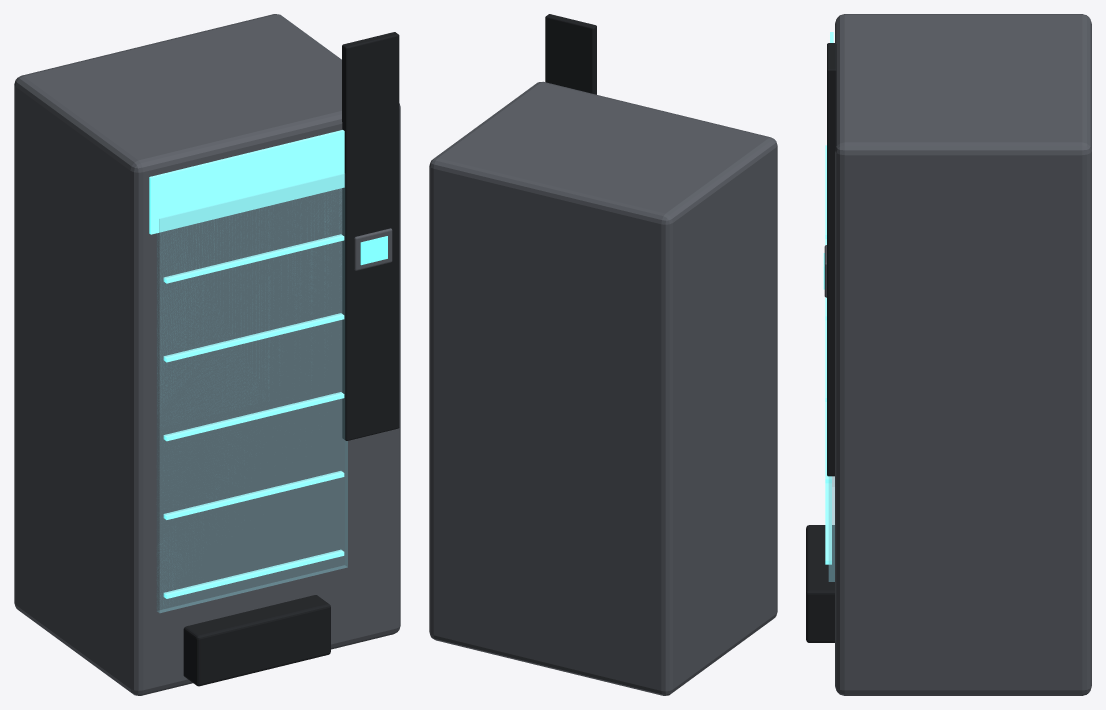
File: vending_machine_drink_cooler.glb
The picture shows the model from 3 angles, left to right: view 1: azimuth 30°, elevation 25°; view 2: azimuth 150°, elevation 25°; view 3: azimuth 270°, elevation 25°; orthographic projection. The views are drawn at different scales.
Visible parts, largest first — view 1: GD_vending_machine_drink_cooler__m0, GD_vending_machine_drink_cooler__m1, GD_vending_machine_drink_cooler__m8, GD_vending_machine_drink_cooler__m7, GD_vending_machine_drink_cooler__m9; view 2: GD_vending_machine_drink_cooler__m0, GD_vending_machine_drink_cooler__m8; view 3: GD_vending_machine_drink_cooler__m0, GD_vending_machine_drink_cooler__m8, GD_vending_machine_drink_cooler__m7, GD_vending_machine_drink_cooler__m1.
Boxes of the visible parts, x1,y1,x2,y2 form: GD_vending_machine_drink_cooler__m0: [14, 14, 400, 695]; GD_vending_machine_drink_cooler__m1: [157, 173, 347, 612]; GD_vending_machine_drink_cooler__m8: [183, 32, 399, 686]; GD_vending_machine_drink_cooler__m7: [149, 130, 344, 598]; GD_vending_machine_drink_cooler__m9: [360, 236, 387, 265]; GD_vending_machine_drink_cooler__m0: [429, 81, 777, 695]; GD_vending_machine_drink_cooler__m8: [545, 14, 596, 94]; GD_vending_machine_drink_cooler__m0: [824, 14, 1091, 695]; GD_vending_machine_drink_cooler__m8: [806, 43, 836, 642]; GD_vending_machine_drink_cooler__m7: [825, 32, 833, 564]; GD_vending_machine_drink_cooler__m1: [828, 476, 834, 581].
Bounding box in the file's own units: 1 × 2.15 × 0.89.
